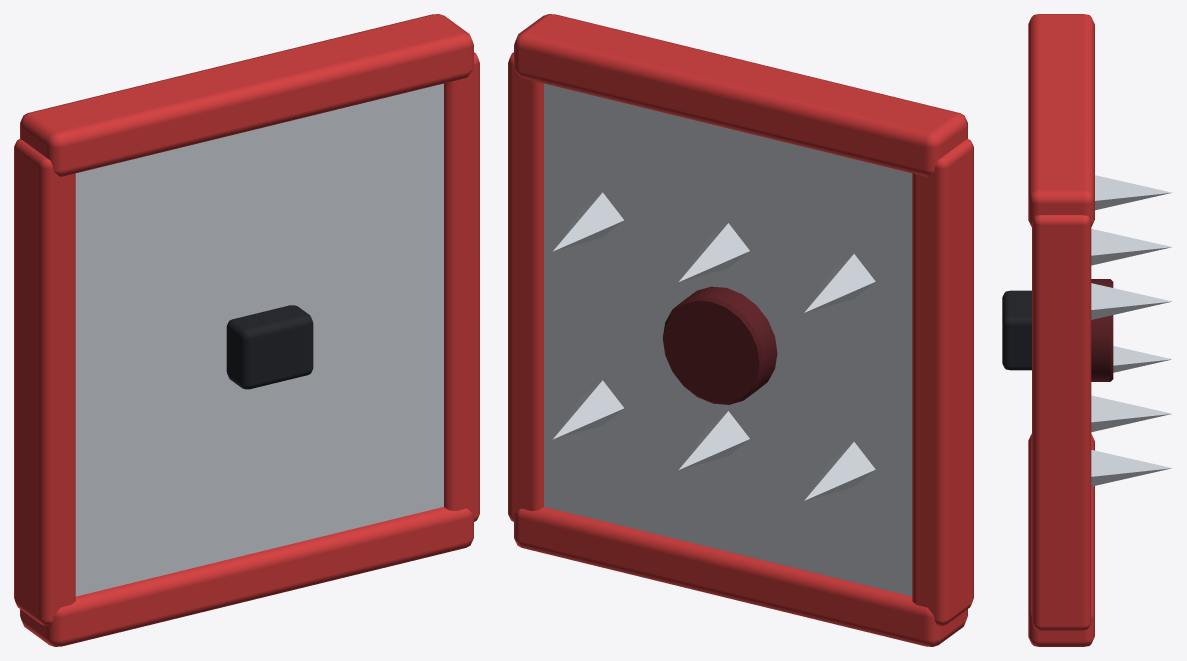
The model's file is shield.glb.
3 renders of one model, left to right at view 1: azimuth 30°, elevation 25°; view 2: azimuth 150°, elevation 25°; view 3: azimuth 270°, elevation 25°, orthographic. The views are drawn at different scales.
Visible parts, largest first — view 1: shield_plate, shield_rim_top, shield_rim_L, shield_rim_bottom, shield_rim_R, shield_handle; view 2: shield_plate, shield_rim_top, shield_rim_L, shield_rim_bottom, shield_rim_R, shield, shield_boss; view 3: shield_rim_R, shield_rim_top, shield, shield_rim_bottom, shield_handle, shield_boss.
Part boxes in pixels (x1,y1,x2,y2): shield_plate: (75, 83, 443, 596); shield_rim_top: (20, 14, 473, 176); shield_rim_L: (14, 138, 75, 625); shield_rim_bottom: (20, 507, 473, 646); shield_rim_R: (444, 52, 479, 521); shield_handle: (226, 305, 313, 389); shield_plate: (544, 83, 912, 596); shield_rim_top: (514, 14, 967, 176); shield_rim_L: (912, 138, 973, 625); shield_rim_bottom: (514, 507, 967, 646); shield_rim_R: (508, 52, 543, 521); shield: (553, 192, 875, 500); shield_boss: (662, 286, 777, 404); shield_rim_R: (1032, 215, 1091, 630); shield_rim_top: (1028, 14, 1094, 226); shield: (1091, 175, 1172, 486); shield_rim_bottom: (1028, 434, 1094, 646); shield_handle: (1002, 290, 1031, 370); shield_boss: (1091, 279, 1113, 381).
Bounding box in the file's own units: 0.608 × 0.68 × 0.23.
